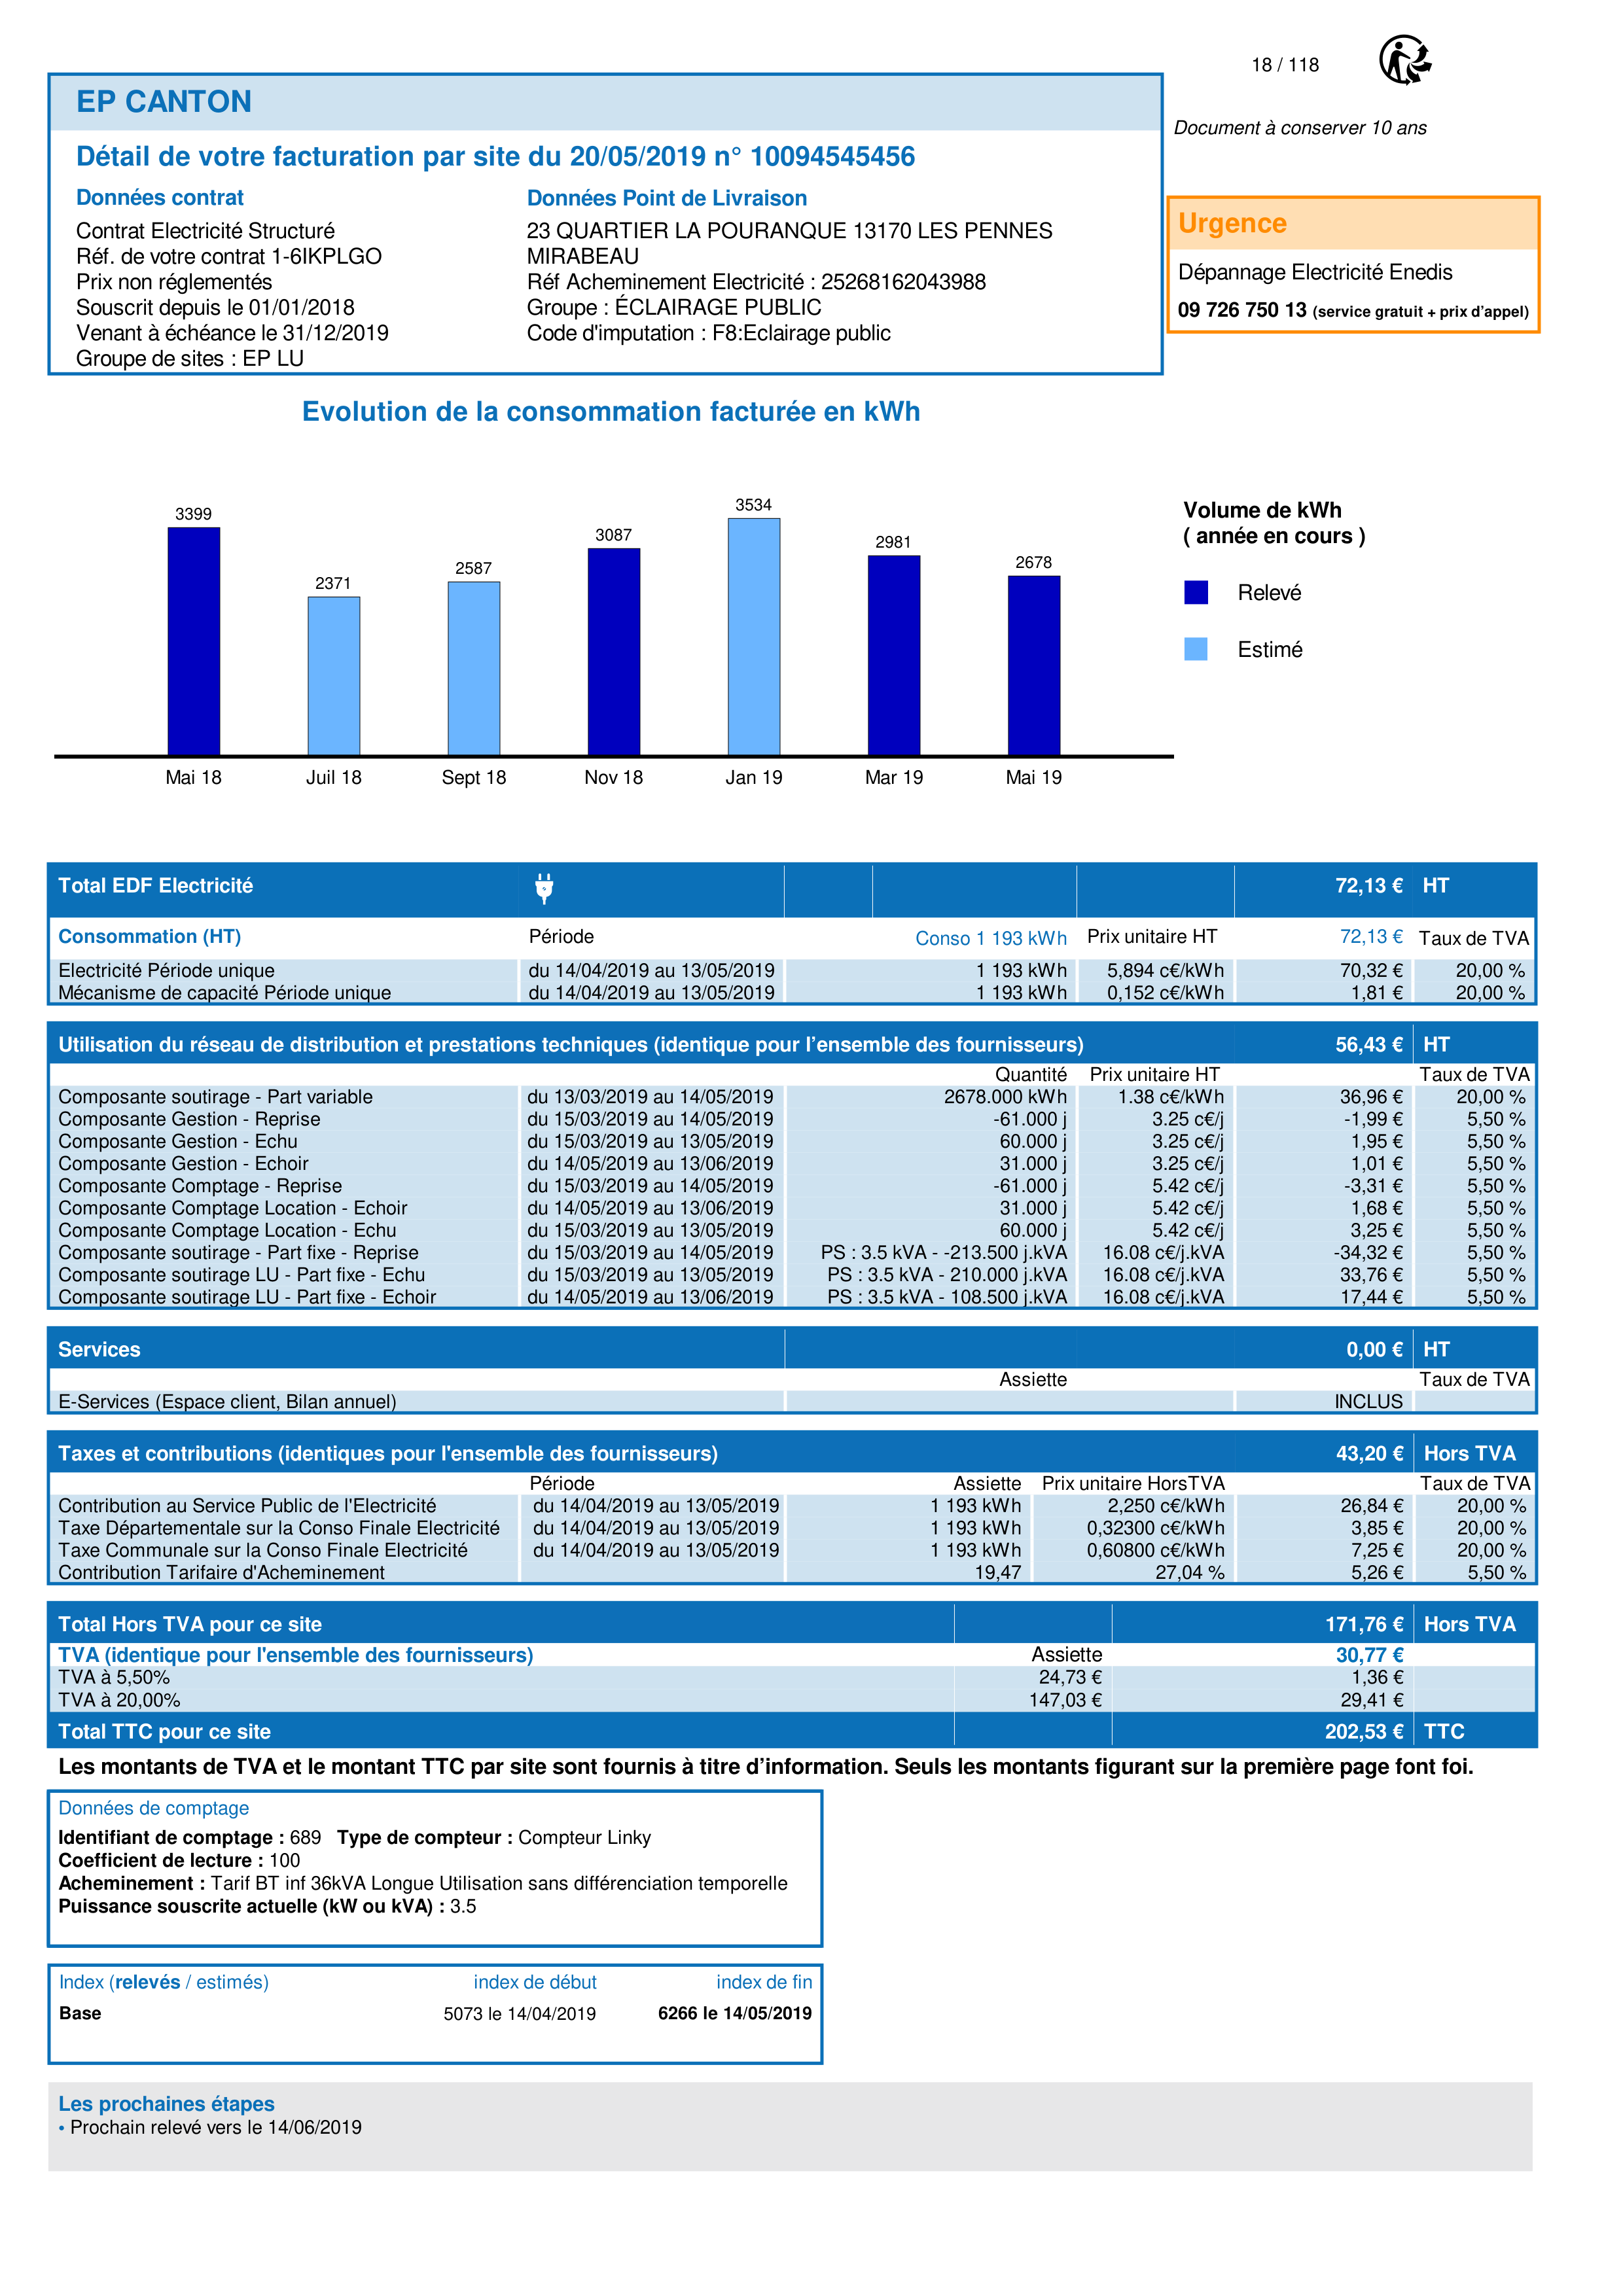area: (48, 1963, 821, 2064)
type_indicator: (47, 1963, 279, 1996)
